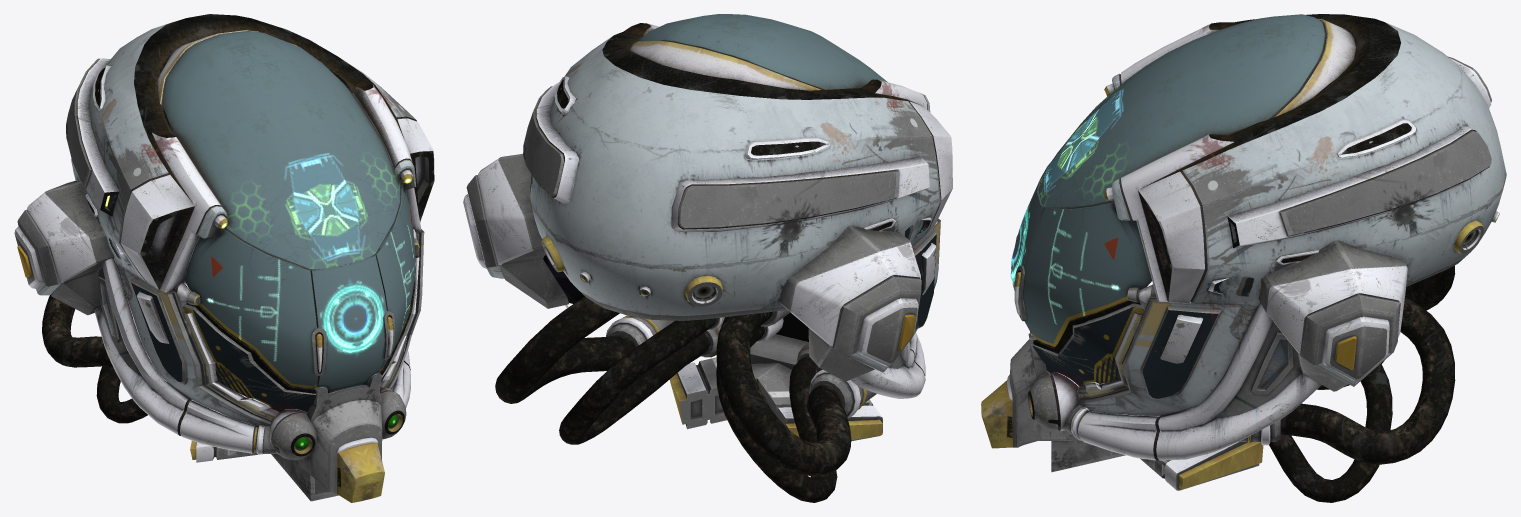
Rendered from medium.glb.
3 views of the same model, side by side, from view 1: azimuth 30°, elevation 25°; view 2: azimuth 150°, elevation 25°; view 3: azimuth 270°, elevation 25° (orthographic). The views are drawn at different scales.
Visible parts, largest first — view 1: node_damagedHelmet_-6514; view 2: node_damagedHelmet_-6514; view 3: node_damagedHelmet_-6514.
Boxes of the visible parts, <box> form: node_damagedHelmet_-6514: <box>14,14,434,502</box>; node_damagedHelmet_-6514: <box>463,14,952,502</box>; node_damagedHelmet_-6514: <box>981,14,1506,502</box>.
Bounding box in the file's own units: 1.89 × 1.8 × 2.
Materials: 1 (1 with a texture image).
